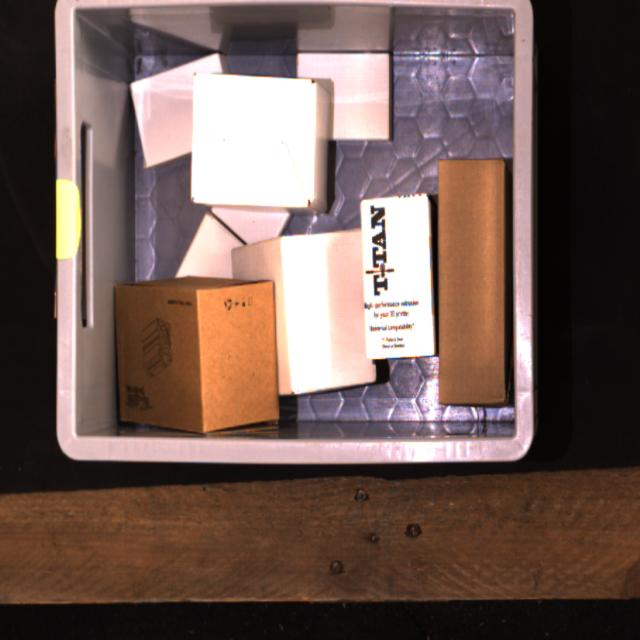Cardboard Box: (115, 278, 278, 432), (231, 231, 376, 393), (191, 73, 331, 209), (438, 161, 508, 404), (360, 195, 434, 359), (131, 53, 222, 165), (298, 52, 390, 141), (177, 214, 242, 276), (212, 207, 288, 243)
